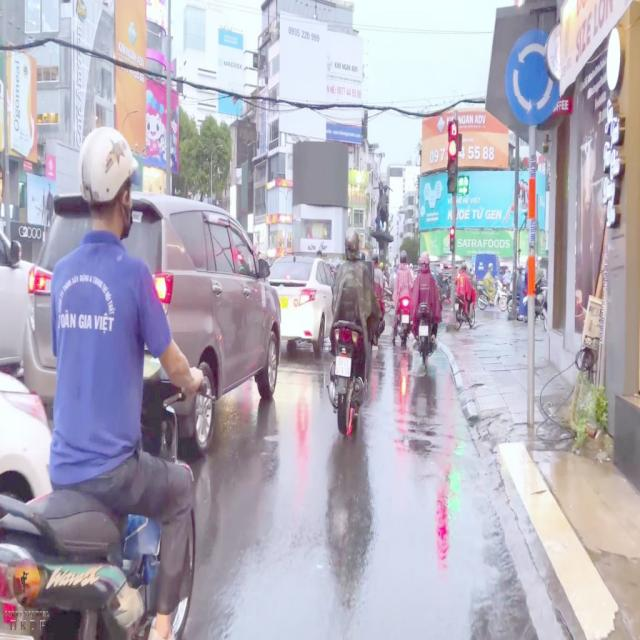noi_giao_nhau_chay_theo_vong: (504, 28, 560, 127)
